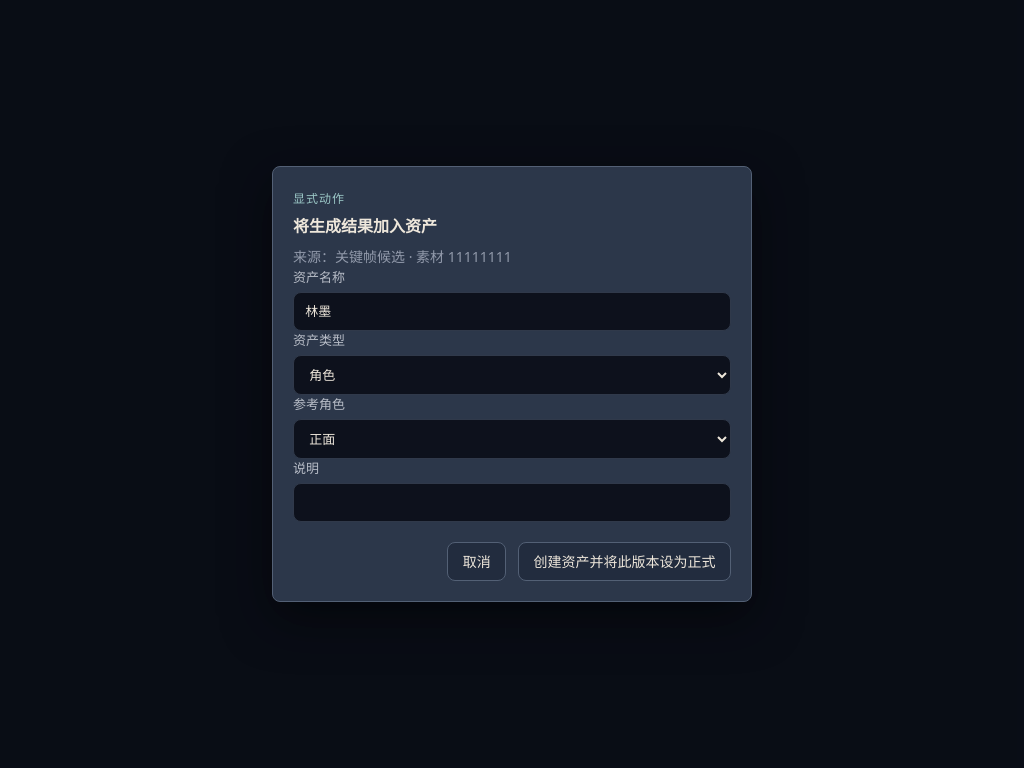
Test: AddArtifactToAssetDialog › does not require a shot to create an asset
Click the button with test id "add-asset-confirm".
click(625, 562)  # box [518,542,731,581]
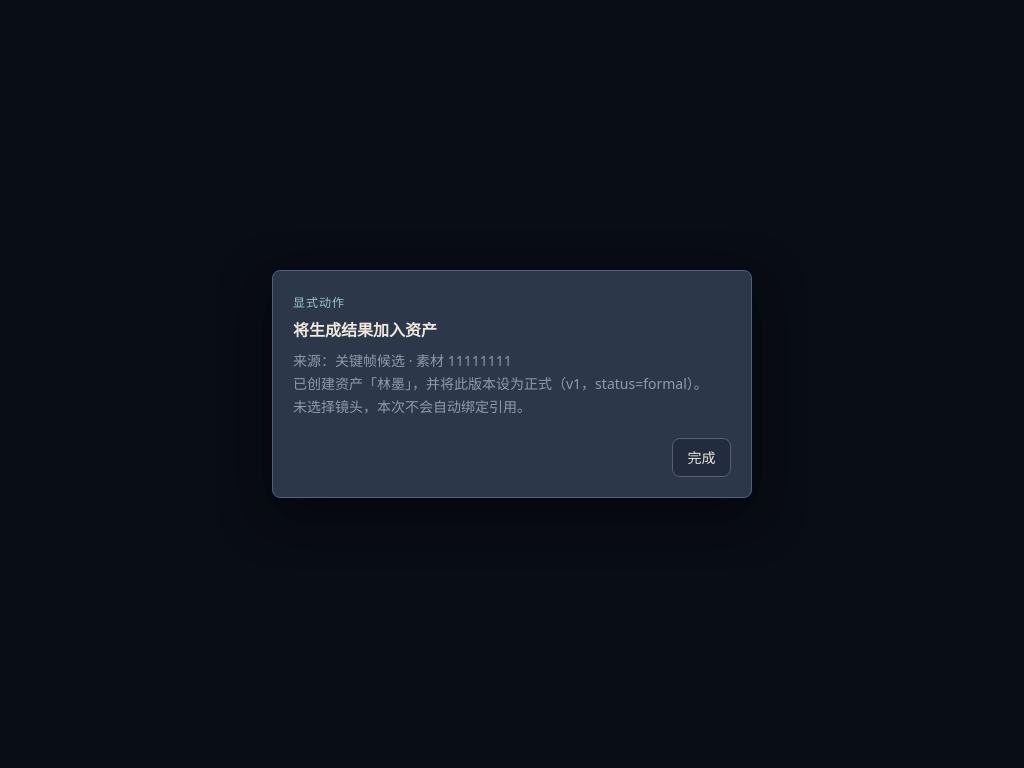
Result: the message "已创建资产「林墨」，并将此版本设为正式（v1，status=formal）。 未选择镜头，本次不会自动绑定引用。 完成" is shown at [293,372,731,477]
Result: the message with test id "add-asset-result" shows "不会自动绑定引用" at [293,397,531,416]
